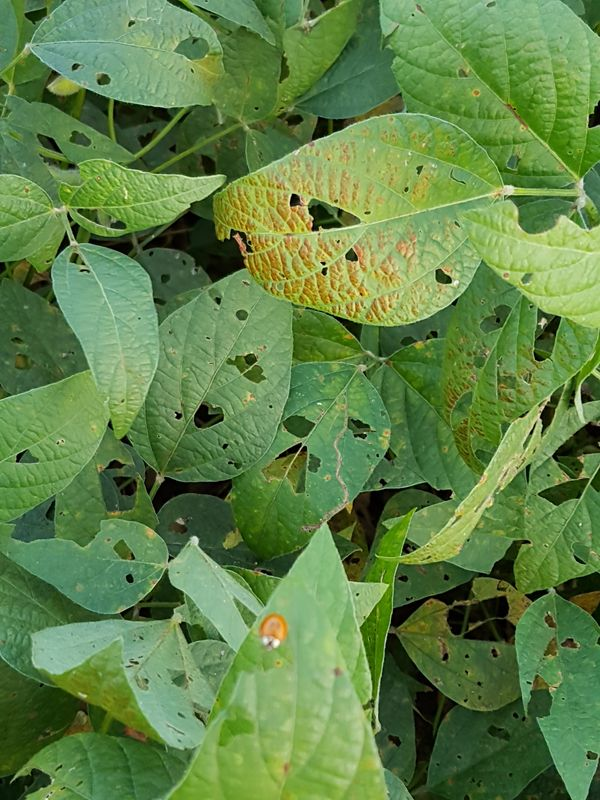Coccinellidae: (248, 608, 297, 659)
